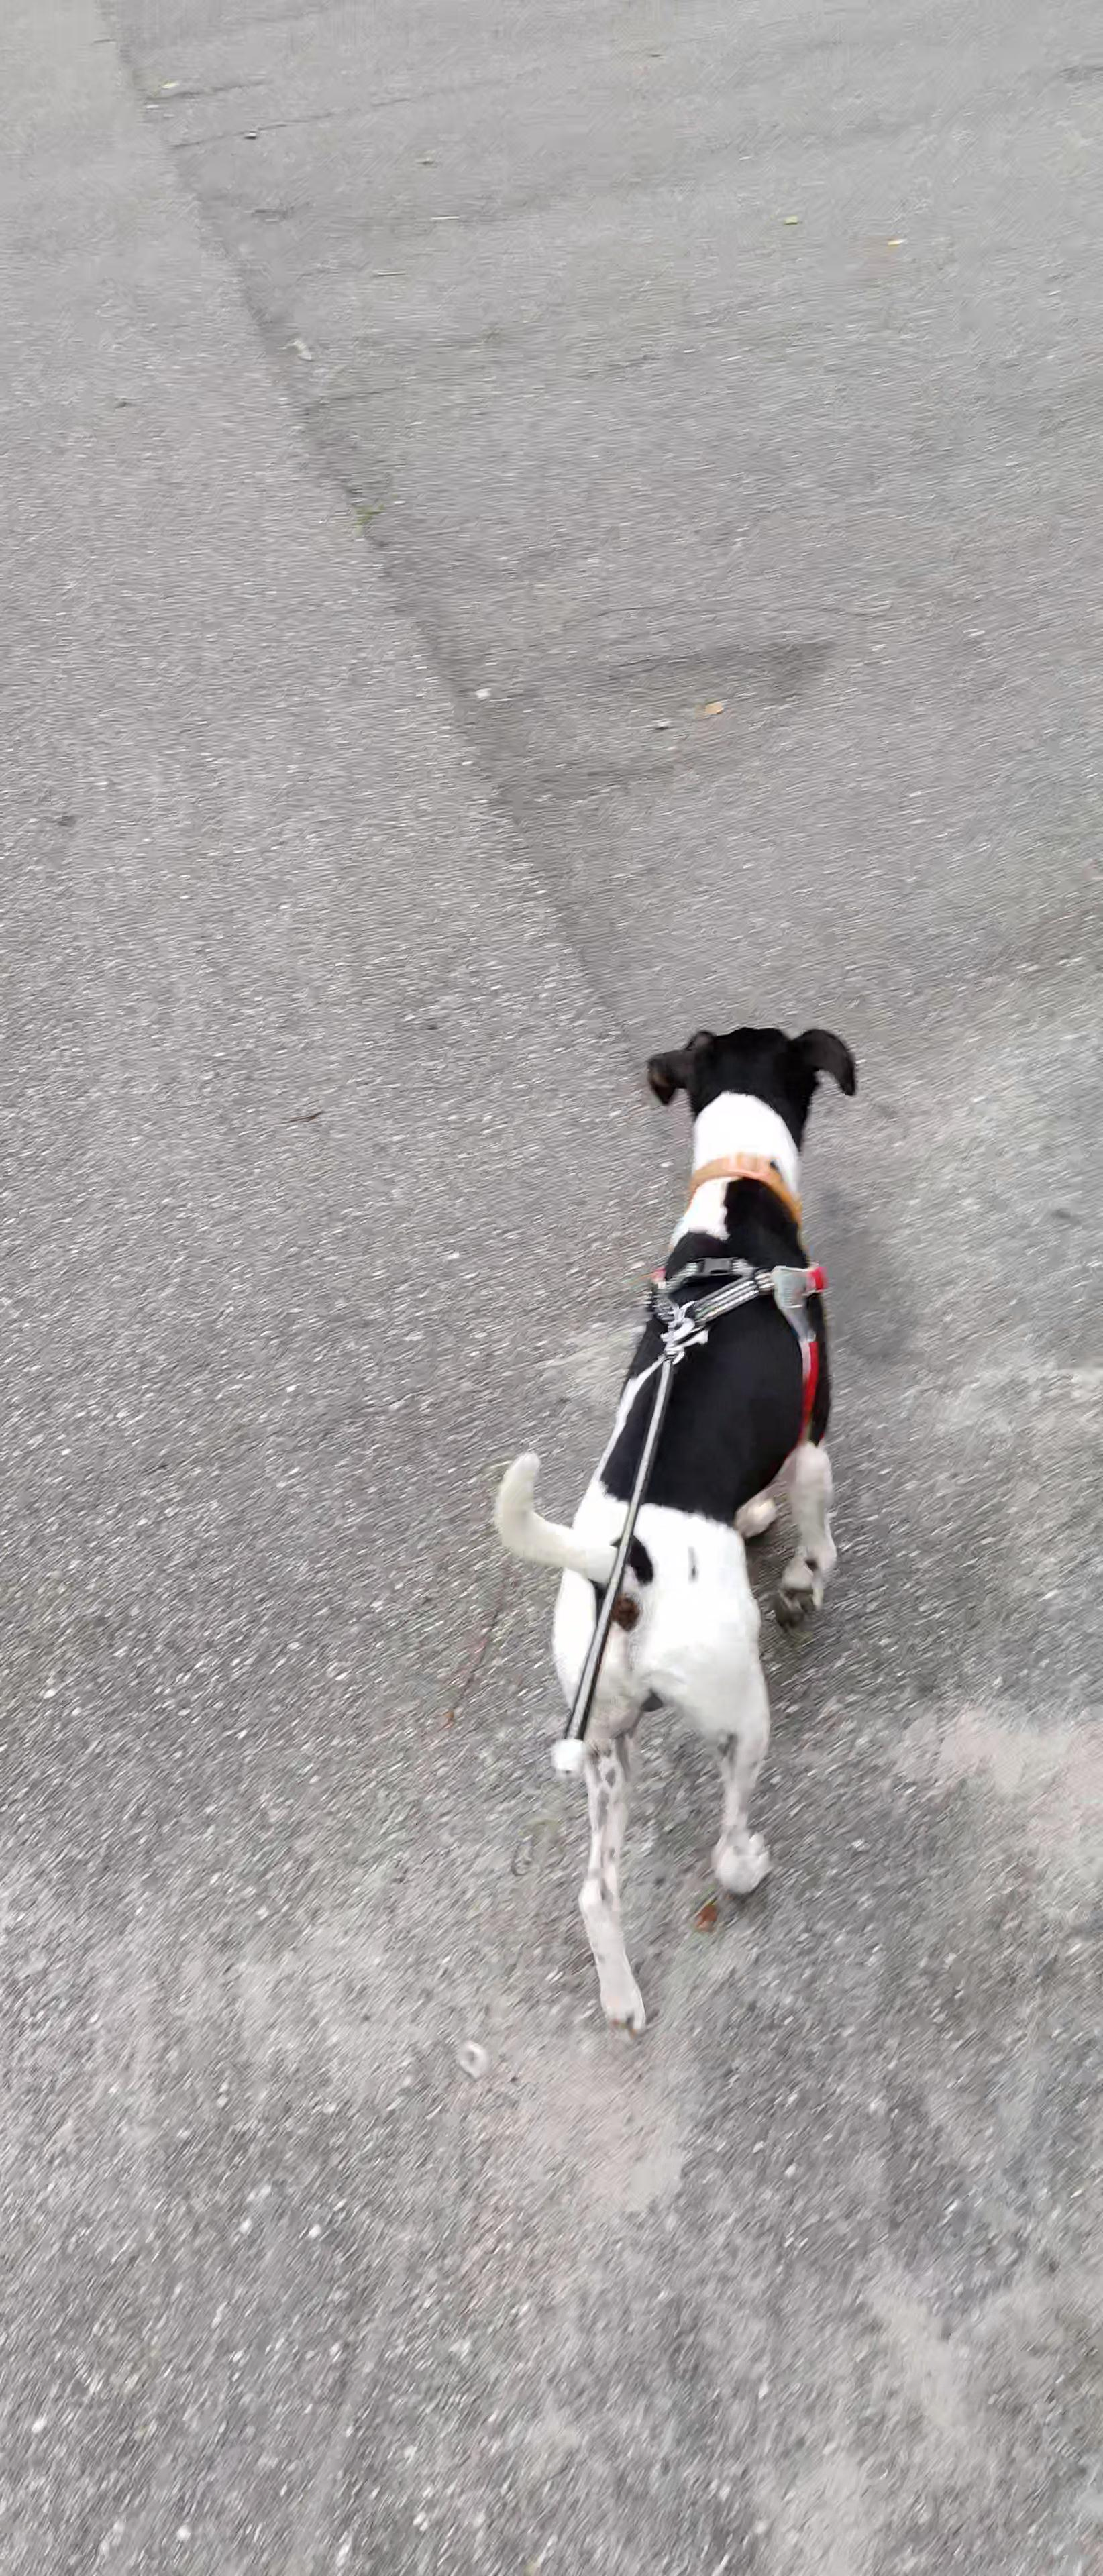Dog: (467, 992, 879, 2100)
